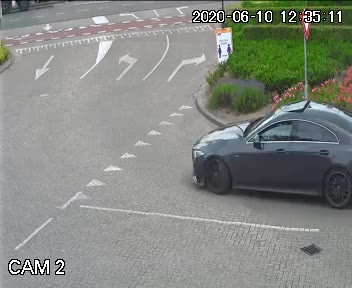car: (179, 93, 352, 208)
